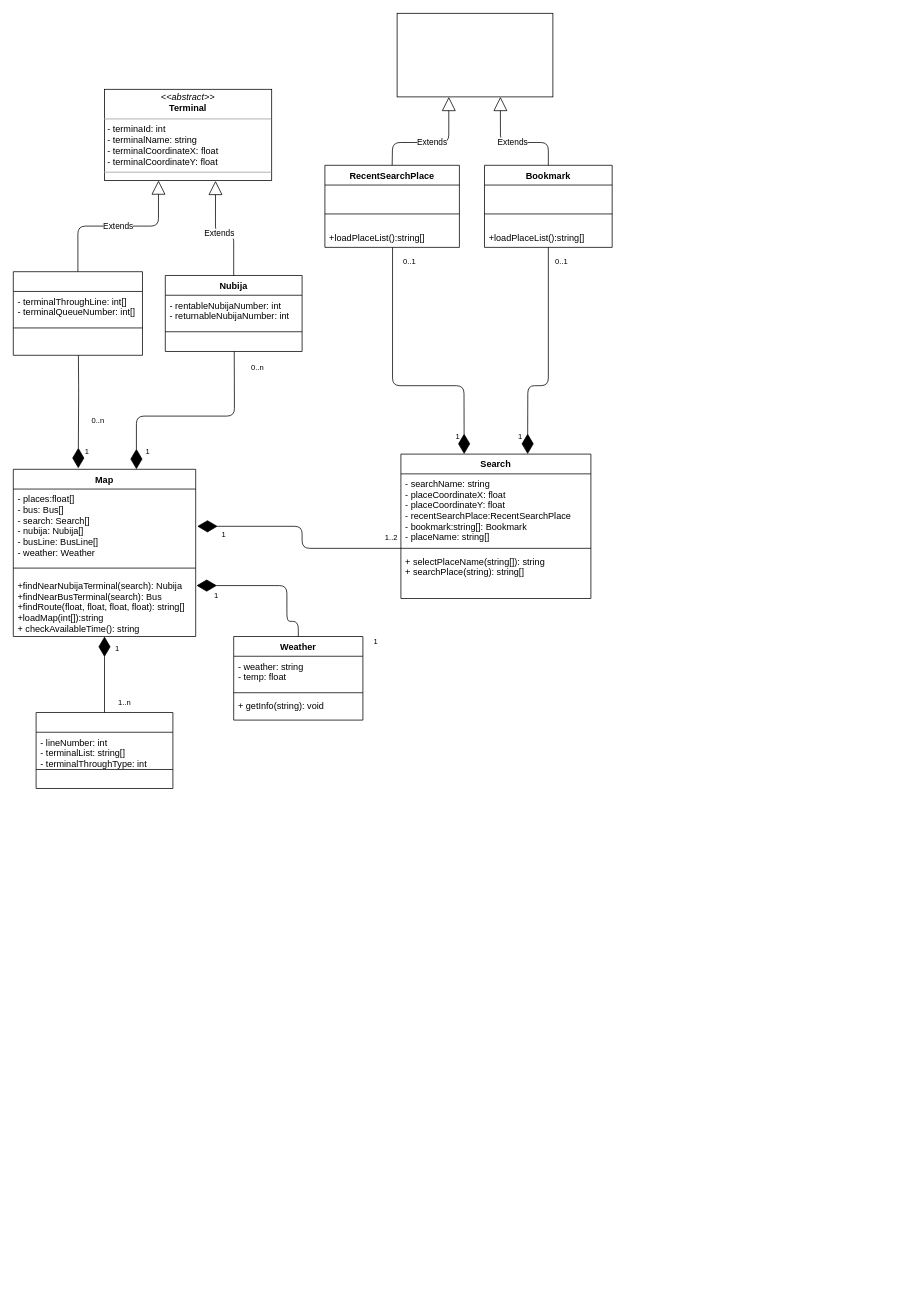
Image size: 916x1296. Some labels were removed from this diagram. Here are the shapes that lost their labels. From the top down, the box of each, then its label:
(396, 13, 553, 97): <<abstract>> Log - placeList():string[] +loadPlaceList():string[] {abstract}
(13, 271, 142, 355): Bus
(35, 712, 173, 788): BusLine
